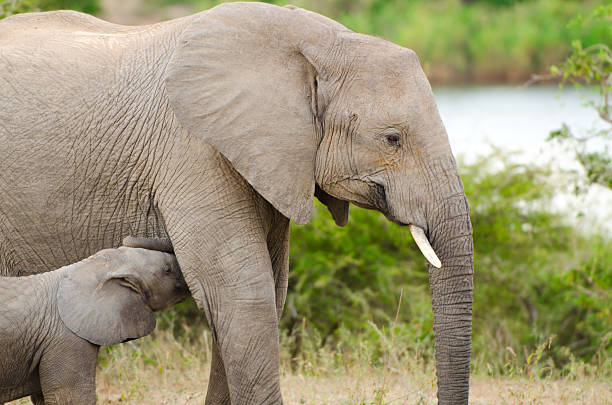africanelephant: (296, 38, 474, 281)
